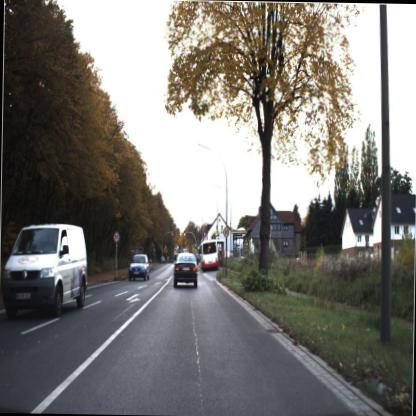prohibitory: (111, 228, 120, 245)
